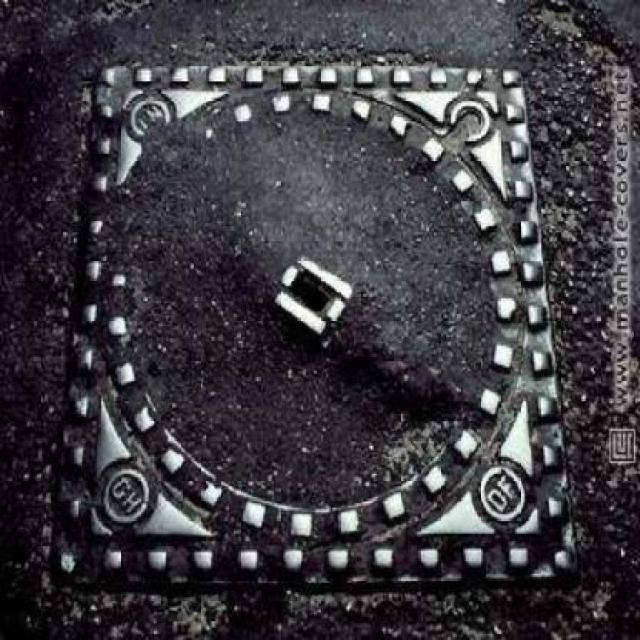Manhole: (48, 55, 582, 592)
